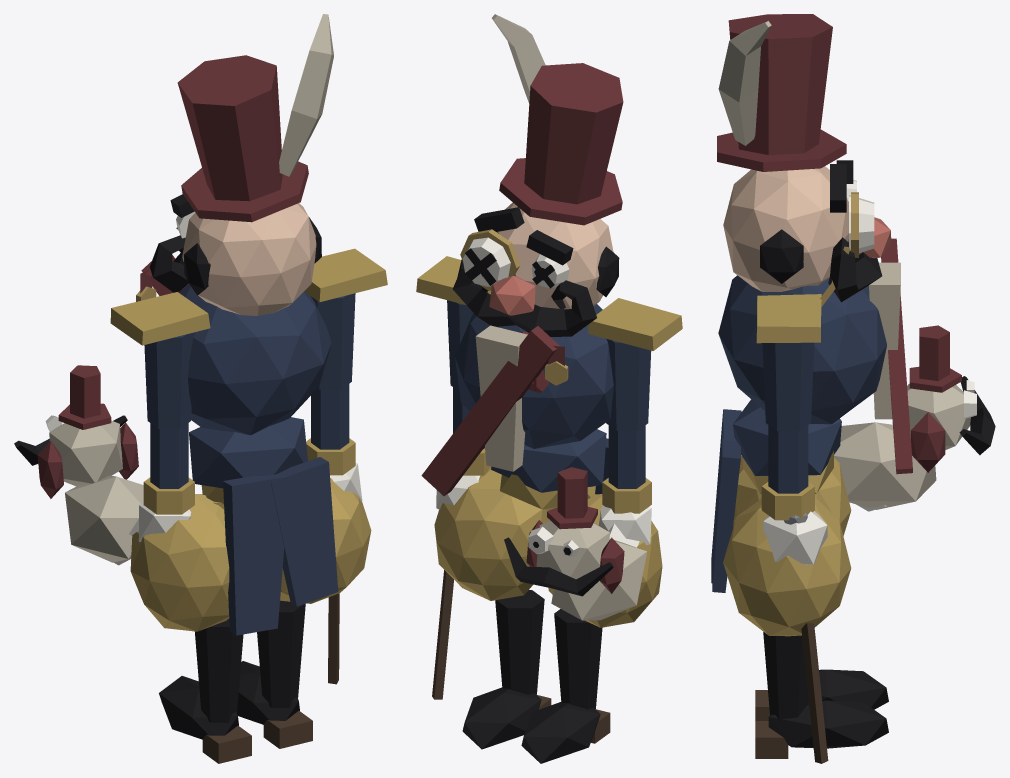
The model's file is baron.glb.
3 renders of one model, left to right at view 1: azimuth 30°, elevation 25°; view 2: azimuth 150°, elevation 25°; view 3: azimuth 270°, elevation 25°, orthographic. The views are drawn at different scales.
Visible parts, largest first — view 1: head, pelvis, forearm_l, chest, thigh_l, shin_l, upper_arm_l, shin_r, upper_arm_r, forearm_r, thigh_r; view 2: head, chest, forearm_l, thigh_r, shin_r, shin_l, upper_arm_l, pelvis, forearm_r, upper_arm_r, thigh_l, head_ko; view 3: head, chest, forearm_l, thigh_r, forearm_r, shin_r, upper_arm_r, pelvis, shin_l, thigh_l.
Part boxes in pixels (x1,y1,x2,y2): head: (149,14,333,315); pelvis: (189,417,338,635); forearm_l: (14,365,194,565); chest: (136,255,331,435); thigh_l: (130,494,229,631); shin_l: (159,618,251,763); upper_arm_l: (110,292,210,428); shin_r: (237,600,312,748); upper_arm_r: (305,248,387,389); forearm_r: (306,384,362,684); thigh_r: (280,478,371,603); head: (452,14,623,336); chest: (421,304,613,495); forearm_l: (504,425,651,620); thigh_r: (434,467,550,600); shin_r: (462,590,551,749); shin_l: (521,609,610,763); upper_arm_l: (588,298,682,430); pelvis: (491,429,608,510); forearm_r: (432,387,490,699); upper_arm_r: (416,256,491,391); thigh_l: (548,494,662,627); head_ko: (465,248,569,392); head: (717,14,891,306); chest: (718,238,912,474); forearm_l: (834,325,995,511); thigh_r: (723,497,851,636); forearm_r: (761,425,828,763); shin_r: (755,632,888,758); upper_arm_r: (756,294,821,431); pelvis: (711,399,841,592); shin_l: (755,669,888,720); thigh_l: (733,455,851,536).
Size of the model in its own units: 0.9848 by 2.48 by 0.8546.
